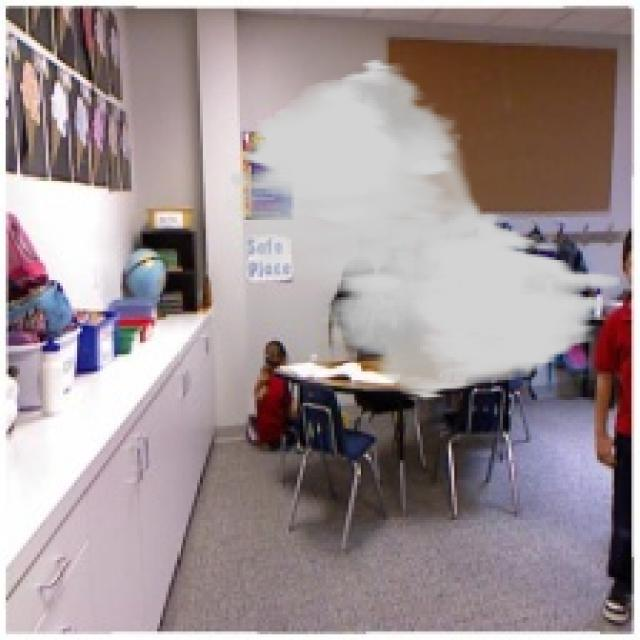smoke: (229, 57, 620, 400)
